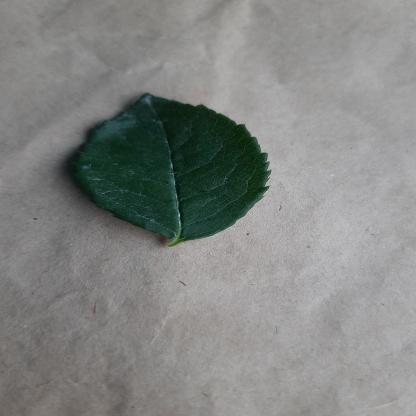normal: (64, 92, 274, 242)
